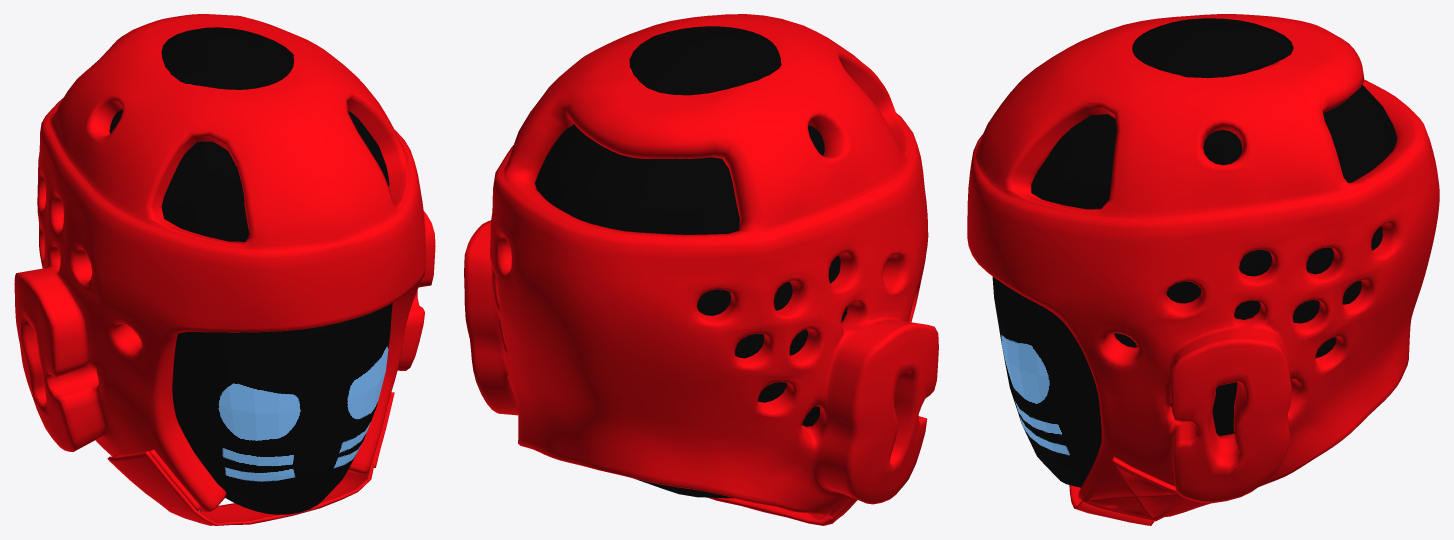
3 views of the same model, side by side, from view 1: azimuth 30°, elevation 25°; view 2: azimuth 150°, elevation 25°; view 3: azimuth 270°, elevation 25° (orthographic). The views are drawn at different scales.
Parts seen in each view (by area): view 1: Mesh.003, angry_Sphere, Mesh.002; view 2: Mesh.003, angry_Sphere, Mesh.002; view 3: Mesh.003, angry_Sphere, Mesh.002.
Part boxes in pixels (<box>): Mesh.003: <box>14,14,435,511</box>; angry_Sphere: <box>109,27,392,514</box>; Mesh.002: <box>107,392,394,525</box>; Mesh.003: <box>464,14,938,519</box>; angry_Sphere: <box>535,26,847,498</box>; Mesh.002: <box>708,496,857,525</box>; Mesh.003: <box>967,14,1439,516</box>; angry_Sphere: <box>992,18,1397,487</box>; Mesh.002: <box>1069,456,1184,525</box>.
Size of the model in its own units: 0.5527 by 0.5956 by 0.5559.
Materials: 3 (1 with a texture image).
